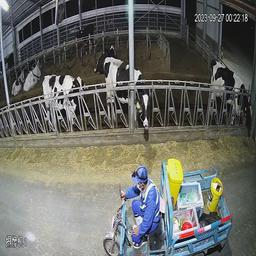cow: (101, 56, 154, 141), (208, 47, 253, 147), (38, 71, 91, 138), (23, 53, 43, 97), (95, 36, 120, 70), (75, 19, 95, 54), (10, 56, 27, 97)
